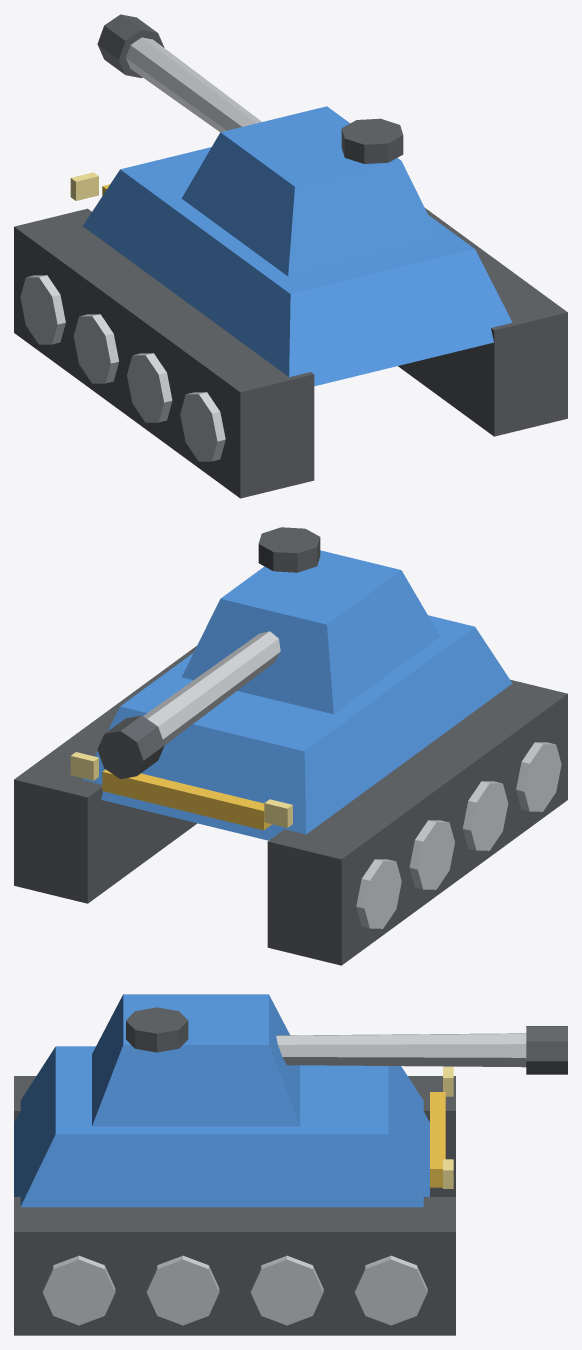
Rendered from Tank.fbx.
3 renders of one model, top to bottom at view 1: azimuth 30°, elevation 25°; view 2: azimuth 150°, elevation 25°; view 3: azimuth 270°, elevation 25°, orthographic. The views are drawn at different scales.
Visible parts, largest first — view 1: Team, Dark, Metal, Light; view 2: Team, Dark, Metal, Hazard, Light; view 3: Team, Dark, Metal, Hazard, Light.
Boxes of the visible parts, x1,y1,x2,y2 form: Team: (83,106,512,386); Dark: (14,14,567,498); Metal: (20,37,261,461); Light: (70,172,98,200); Team: (83,550,512,840); Dark: (14,527,567,965); Metal: (143,631,561,928); Hazard: (102,769,271,830); Light: (70,752,292,827); Team: (14,994,429,1207); Dark: (14,1007,567,1335); Metal: (42,1033,526,1325); Hazard: (430,1092,445,1187); Light: (443,1067,453,1188).
Size of the model in its own units: 149 by 109 by 213.
